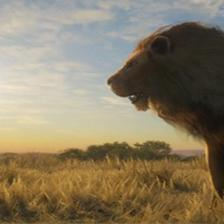lions: (75, 16, 224, 198)
